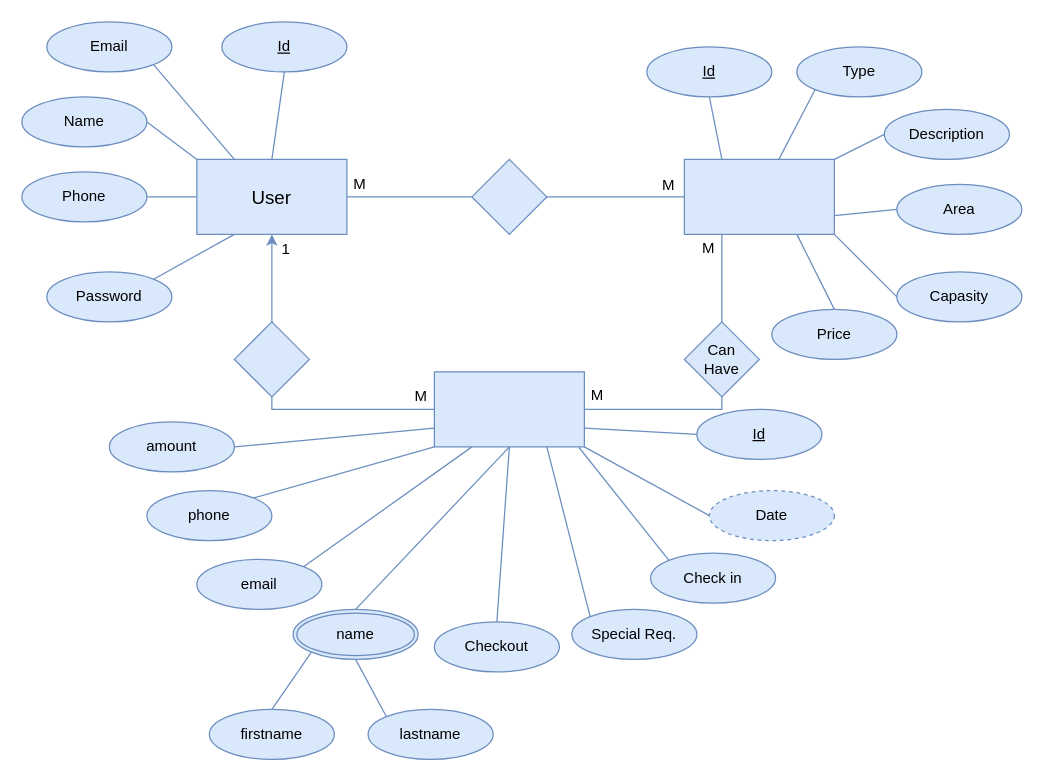
This 1044x781 diagram has some shape labels left out. Each missing label, with the centre of its shape:
"Book" goes at point 509,196.
"can Do" goes at point 271,359.
"Reservation" goes at point 508,409.
"Room" goes at point 758,196.
